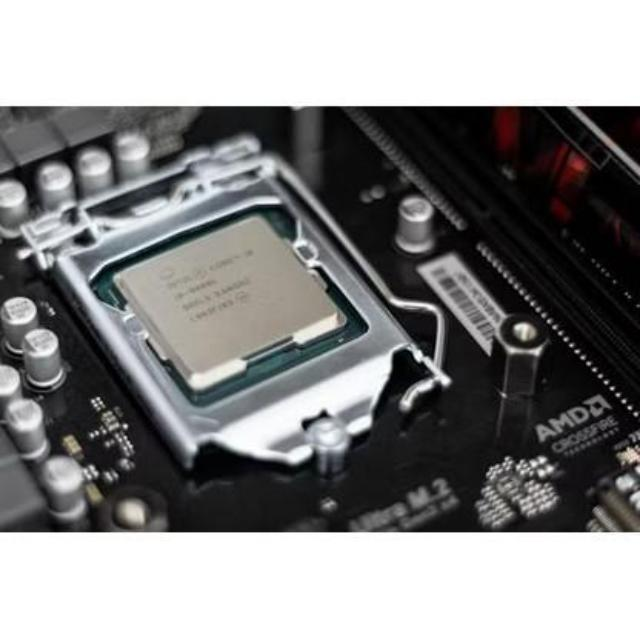CPU: (113, 216, 339, 379)
